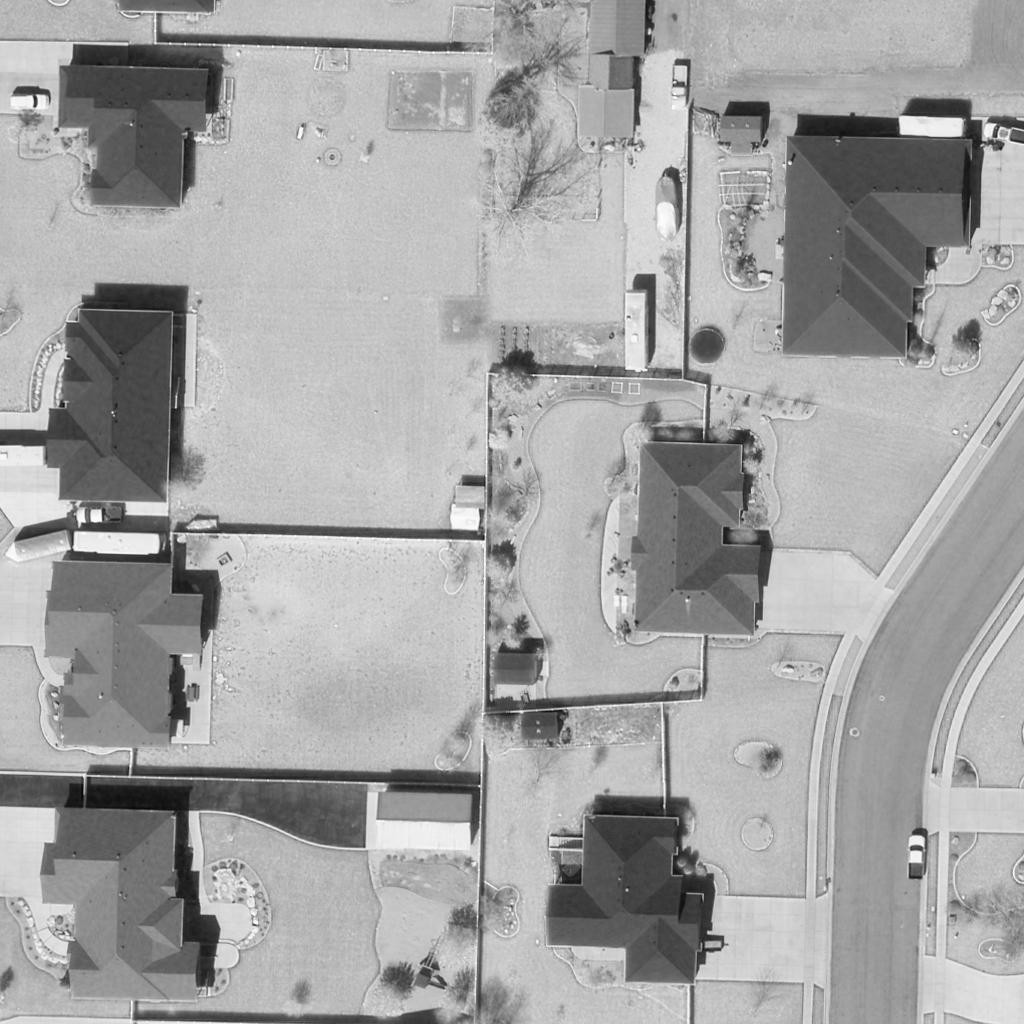vehicle: (622, 287, 652, 371), (2, 531, 72, 563), (72, 532, 164, 556), (655, 175, 683, 239), (898, 117, 966, 139), (982, 122, 1024, 150), (74, 506, 126, 528), (907, 834, 925, 882), (670, 63, 688, 109), (9, 93, 53, 111)
